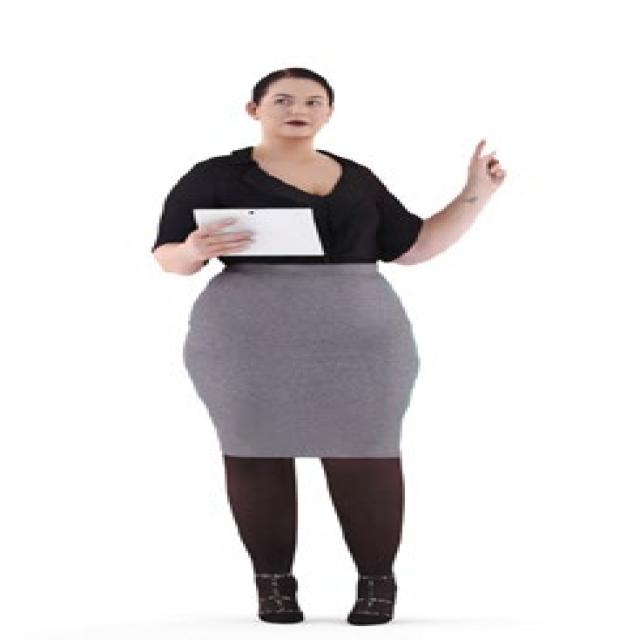standing: (140, 66, 512, 624)
